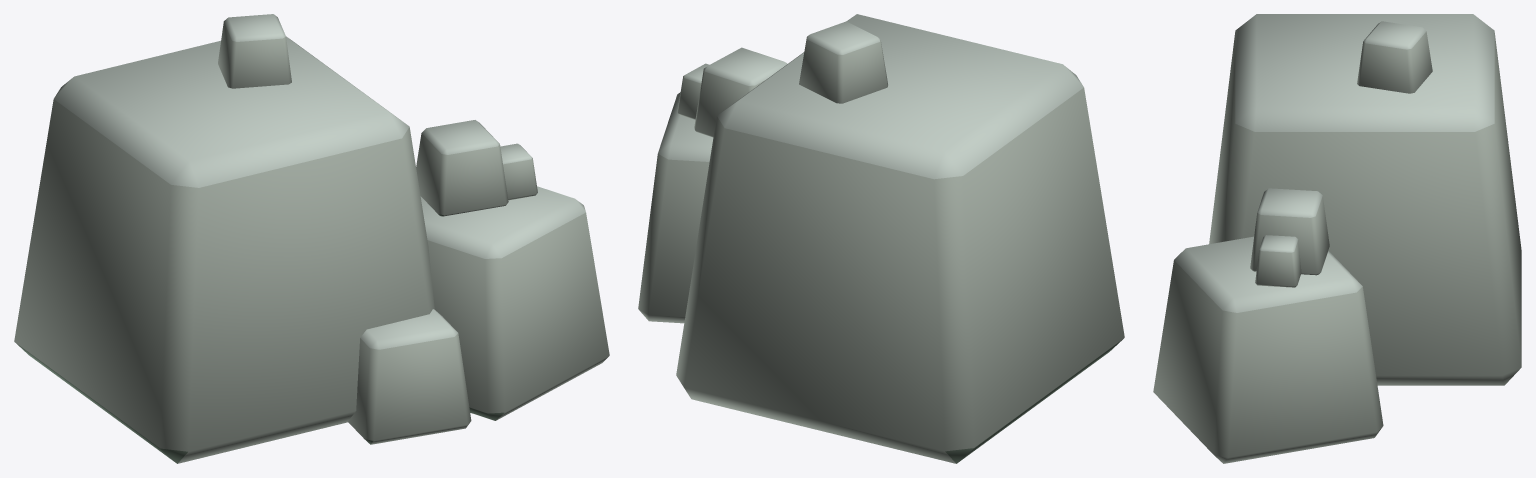
The model's file is formedRock-06_col.fbx.
3 renders of one model, left to right at view 1: azimuth 30°, elevation 25°; view 2: azimuth 150°, elevation 25°; view 3: azimuth 270°, elevation 25°, orthographic. The views are drawn at different scales.
Visible parts, largest first — view 1: formedRock-06.col; view 2: formedRock-06.col; view 3: formedRock-06.col.
Part boxes in pixels (<box>): formedRock-06.col: <box>14,14,609,463</box>; formedRock-06.col: <box>638,14,1124,463</box>; formedRock-06.col: <box>1153,14,1521,463</box>.
Bounding box in the file's own units: 0.2833 × 0.2038 × 0.2147.
Materials: 1 (1 with a texture image).
